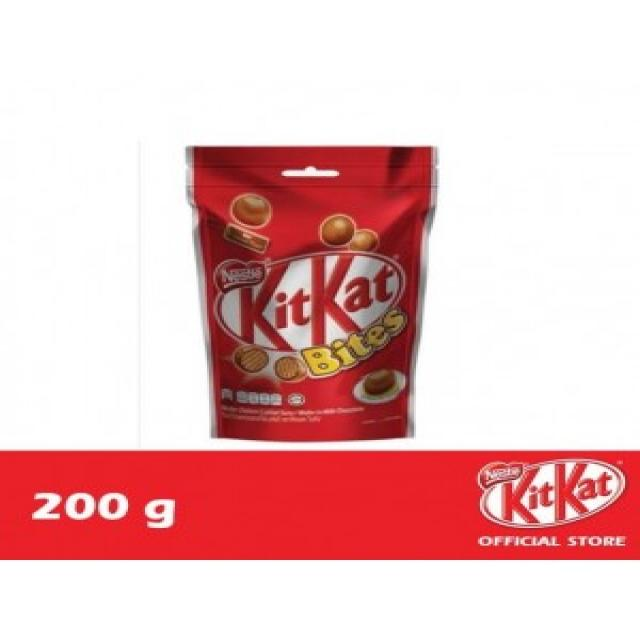kitkat: (180, 144, 436, 438)
